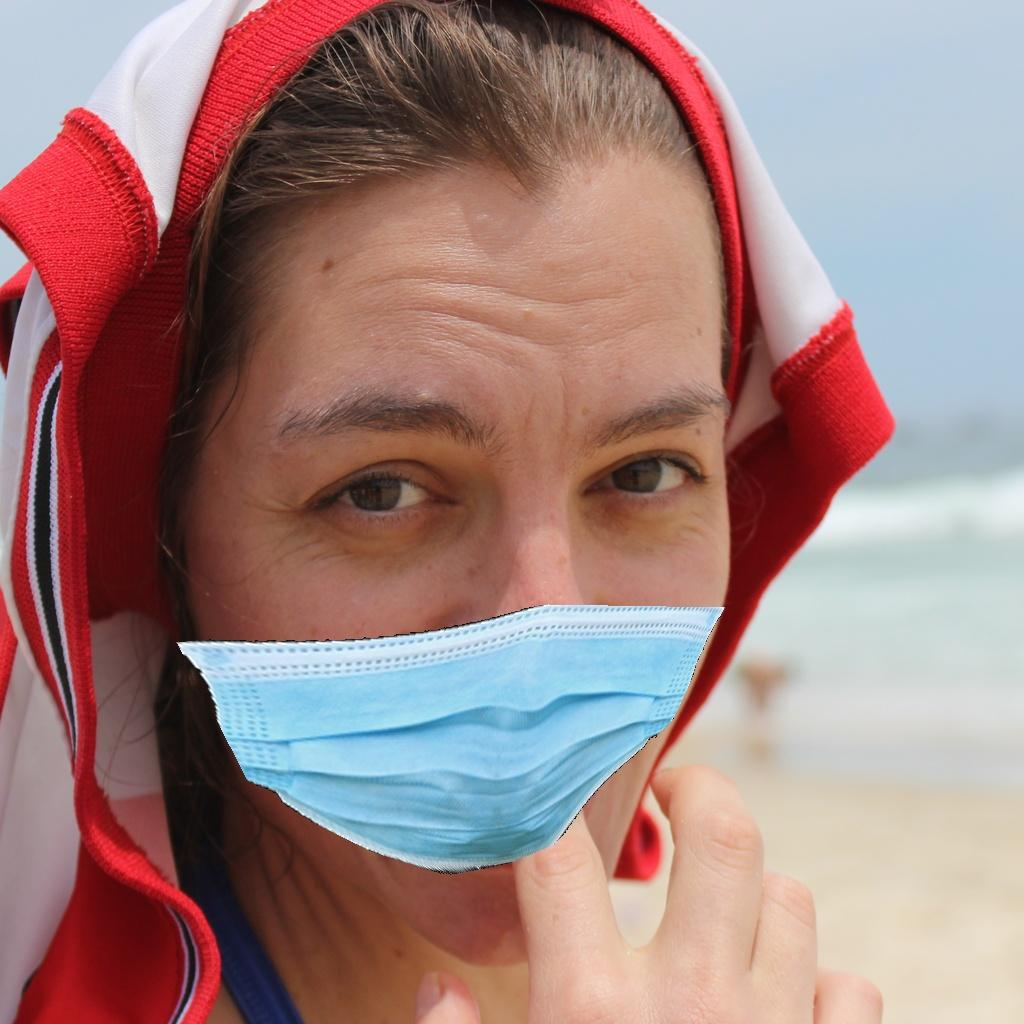Com Máscara: (168, 182, 773, 913)
